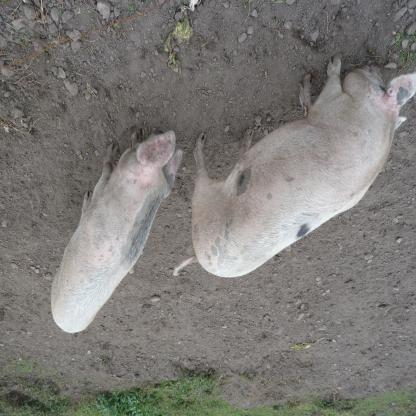boar: (172, 53, 416, 276), (51, 124, 185, 333)
